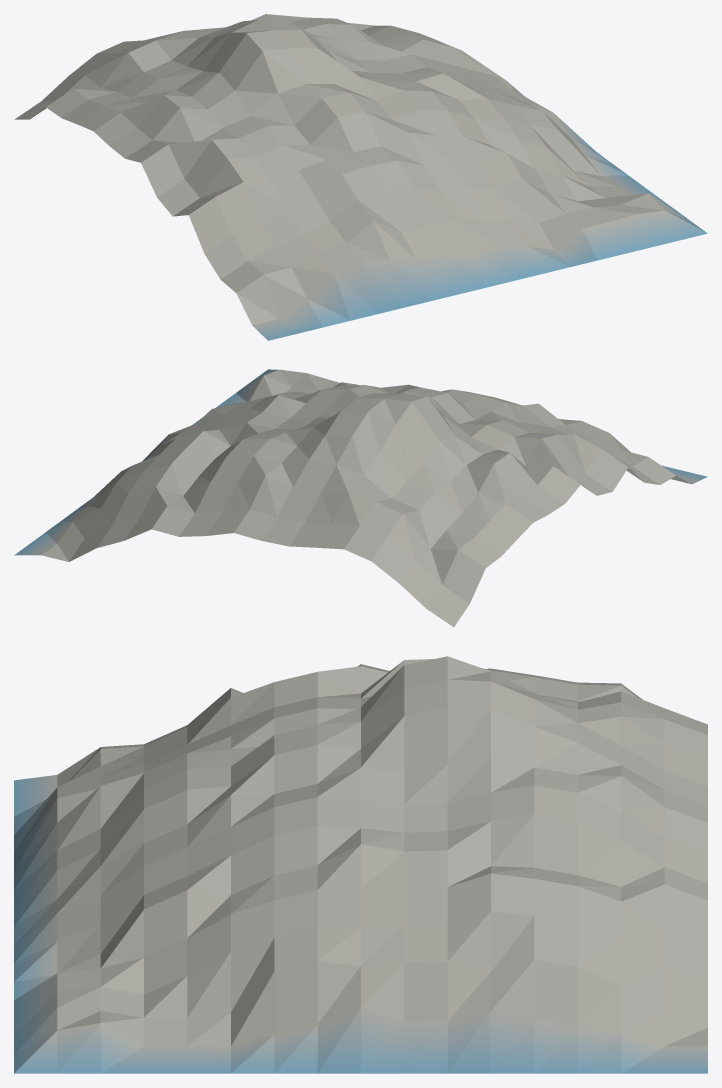
The picture shows the model from 3 angles, top to bottom: view 1: azimuth 30°, elevation 25°; view 2: azimuth 150°, elevation 25°; view 3: azimuth 270°, elevation 25°; orthographic projection. The views are drawn at different scales.
Bounding box in the file's own units: 32 × 10.98 × 32.
